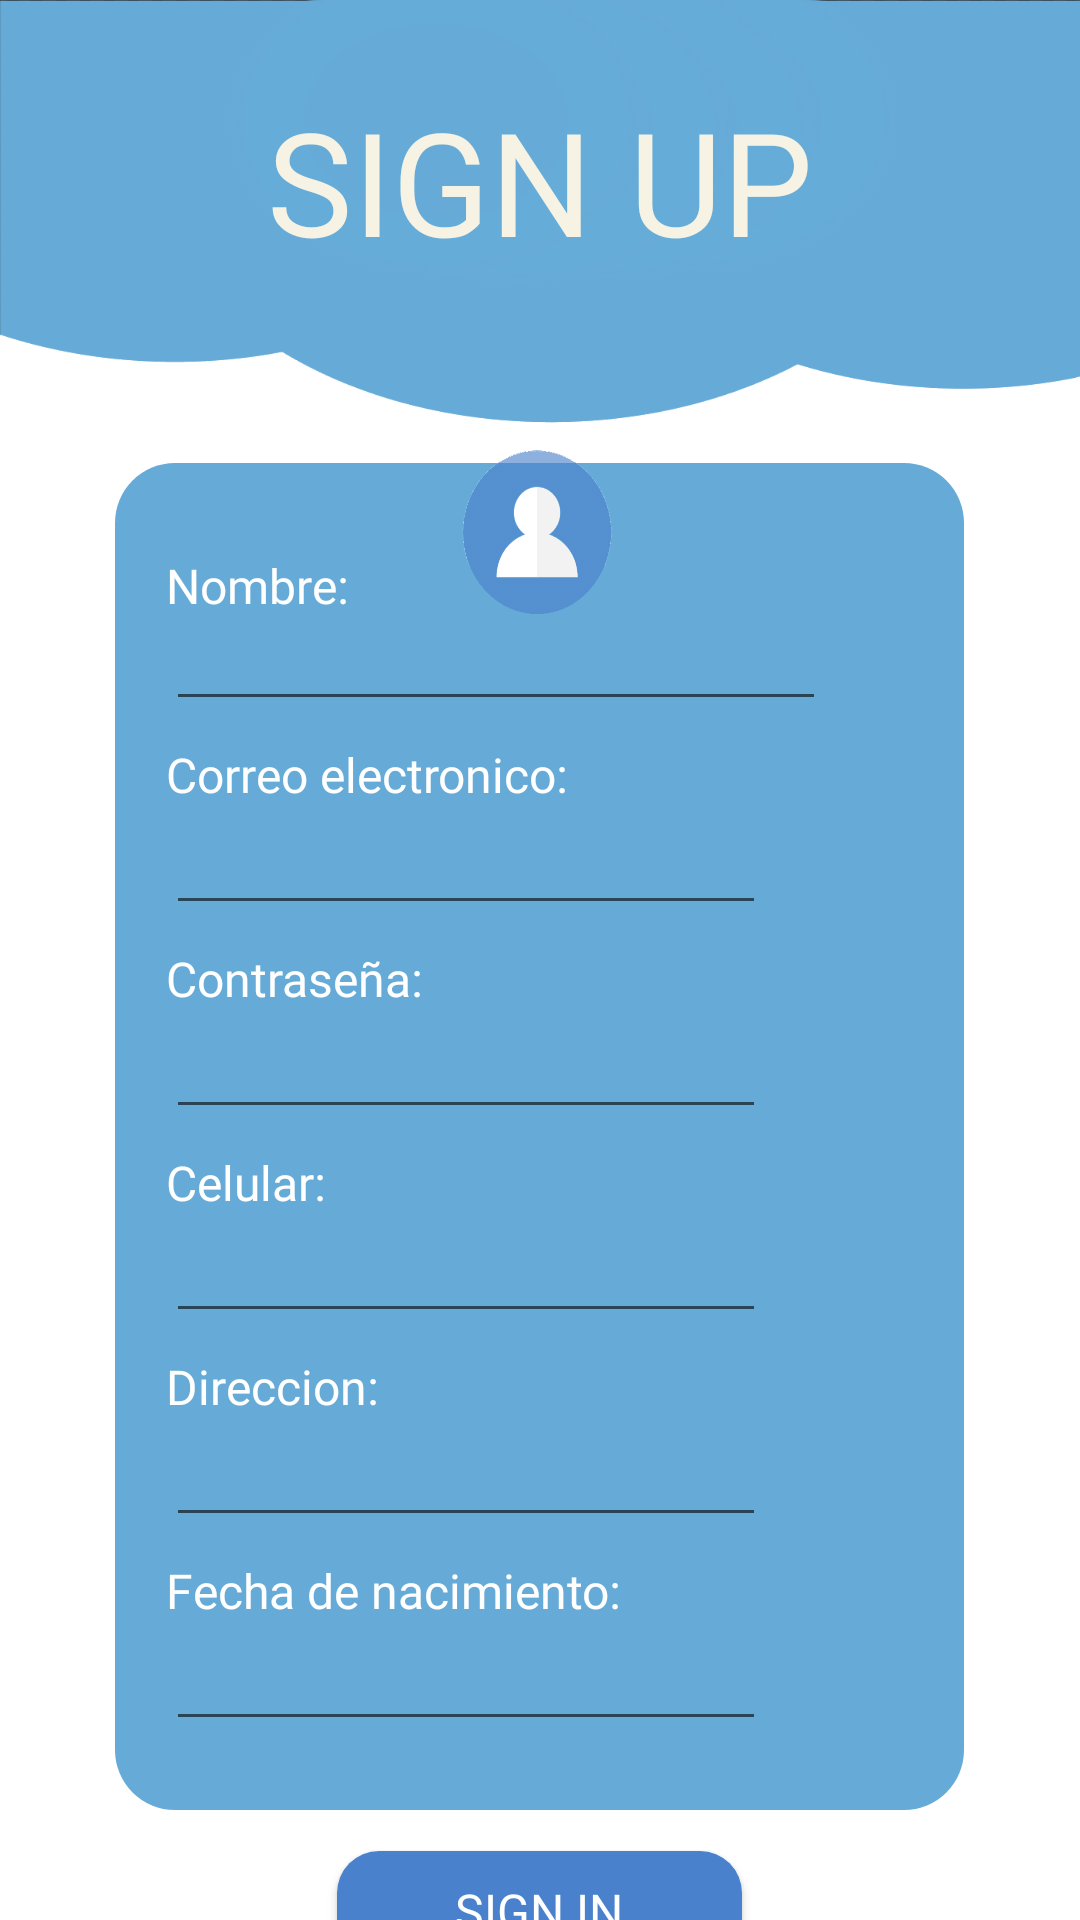

Where icons sit on this 1080 × 1920 app screen, as (x1, y1, x2, y2):
imgiconuser: (449, 447, 629, 614)
